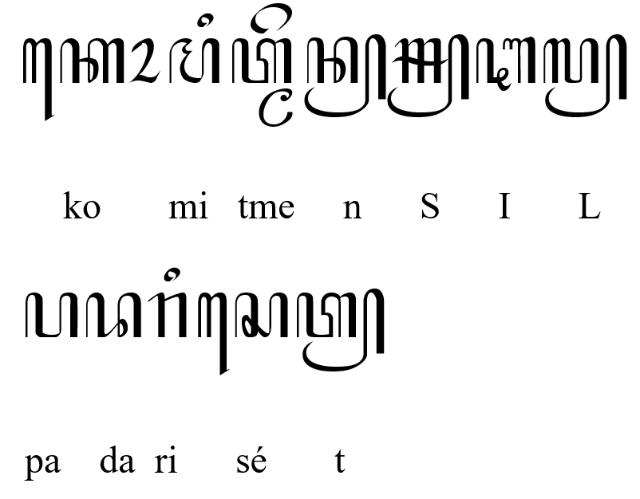-S: (388, 33, 470, 119)
-l: (543, 33, 629, 119)
-n: (303, 32, 387, 118)
-t: (295, 287, 385, 373)
I: (476, 36, 536, 92)
_m: (257, 89, 295, 127)
d: (85, 290, 143, 340)
e: (250, 3, 294, 34)
e1: (22, 37, 56, 122), (197, 291, 231, 375)
i: (196, 12, 214, 28), (163, 267, 181, 283)
k: (58, 38, 125, 84)
m: (168, 37, 222, 85)
o: (128, 37, 160, 84)
p: (24, 291, 80, 339)
r: (146, 292, 188, 340)
s: (234, 293, 288, 339)
t: (230, 36, 294, 86)
